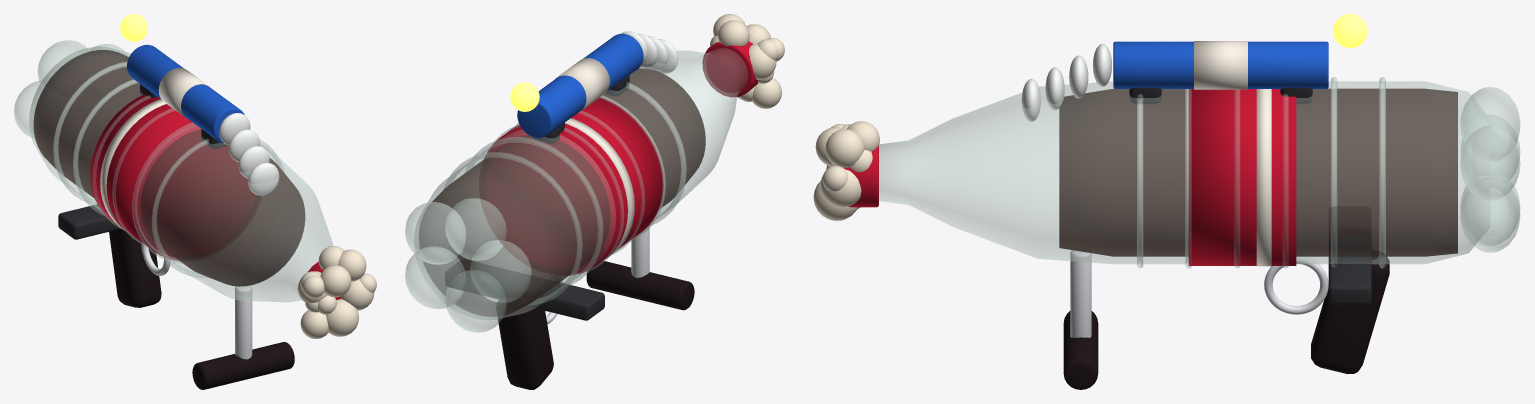
The model's file is mentos.glb.
The picture shows the model from 3 angles, left to right: view 1: azimuth 30°, elevation 25°; view 2: azimuth 150°, elevation 25°; view 3: azimuth 270°, elevation 25°; orthographic projection. The views are drawn at different scales.
Visible parts, largest first — view 1: ПЭТ-бутылка 2 л, Кола внутри, Этикетка, Обёртка ментоса, Рукоять.002, Ручка насоса, Хомут, Шток насоса, Ребро бутылки 6, Полоса обёртки, Волна на этикетке, Лепесток дна 2 (+19 smaller); view 2: ПЭТ-бутылка 2 л, Кола внутри, Этикетка, Обёртка ментоса, Рукоять.002, Лепесток дна 2, Лепесток дна 3, Ручка насоса, Лепесток дна 5, Хомут, Лепесток дна 1, Лепесток дна 4 (+18 smaller); view 3: ПЭТ-бутылка 2 л, Кола внутри, Этикетка, Обёртка ментоса, Рукоять.002, Лепесток дна 1, Лепесток дна 5, Лепесток дна 2, Хомут, Волна на этикетке, Полоса обёртки, Ручка насоса (+19 smaller).
Boxes of the visible parts, bbox=[...] form: ПЭТ-бутылка 2 л: bbox=[29, 46, 333, 302]; Кола внутри: bbox=[33, 50, 305, 286]; Этикетка: bbox=[90, 94, 256, 260]; Обёртка ментоса: bbox=[127, 44, 244, 143]; Рукоять.002: bbox=[109, 229, 161, 307]; Ручка насоса: bbox=[192, 342, 294, 389]; Хомут: bbox=[58, 204, 121, 239]; Шток насоса: bbox=[235, 285, 252, 359]; Ребро бутылки 6: bbox=[151, 139, 284, 277]; Полоса обёртки: bbox=[158, 68, 210, 118]; Волна на этикетке: bbox=[100, 99, 166, 234]; Лепесток дна 2: bbox=[37, 40, 89, 84]; ПЭТ-бутылка 2 л: bbox=[414, 48, 747, 319]; Кола внутри: bbox=[419, 68, 705, 316]; Этикетка: bbox=[484, 97, 663, 275]; Обёртка ментоса: bbox=[517, 33, 643, 137]; Рукоять.002: bbox=[498, 294, 553, 389]; Лепесток дна 2: bbox=[445, 198, 506, 260]; Лепесток дна 3: bbox=[470, 240, 531, 302]; Ручка насоса: bbox=[586, 261, 694, 310]; Лепесток дна 5: bbox=[405, 246, 465, 308]; Хомут: bbox=[448, 270, 604, 320]; Лепесток дна 1: bbox=[405, 202, 465, 264]; Лепесток дна 4: bbox=[445, 270, 506, 332]; ПЭТ-бутылка 2 л: bbox=[879, 81, 1489, 264]; Кола внутри: bbox=[1059, 88, 1457, 256]; Этикетка: bbox=[1188, 89, 1296, 265]; Обёртка ментоса: bbox=[1113, 41, 1328, 88]; Рукоять.002: bbox=[1311, 256, 1389, 374]; Лепесток дна 1: bbox=[1460, 126, 1520, 200]; Лепесток дна 5: bbox=[1460, 178, 1520, 252]; Лепесток дна 2: bbox=[1460, 87, 1520, 161]; Хомут: bbox=[1328, 236, 1371, 304]; Волна на этикетке: bbox=[1256, 89, 1271, 266]; Полоса обёртки: bbox=[1194, 41, 1247, 89]; Ручка насоса: bbox=[1063, 311, 1098, 389].
Bounding box in the file's own units: 0.18 × 0.3623 × 0.6563.
